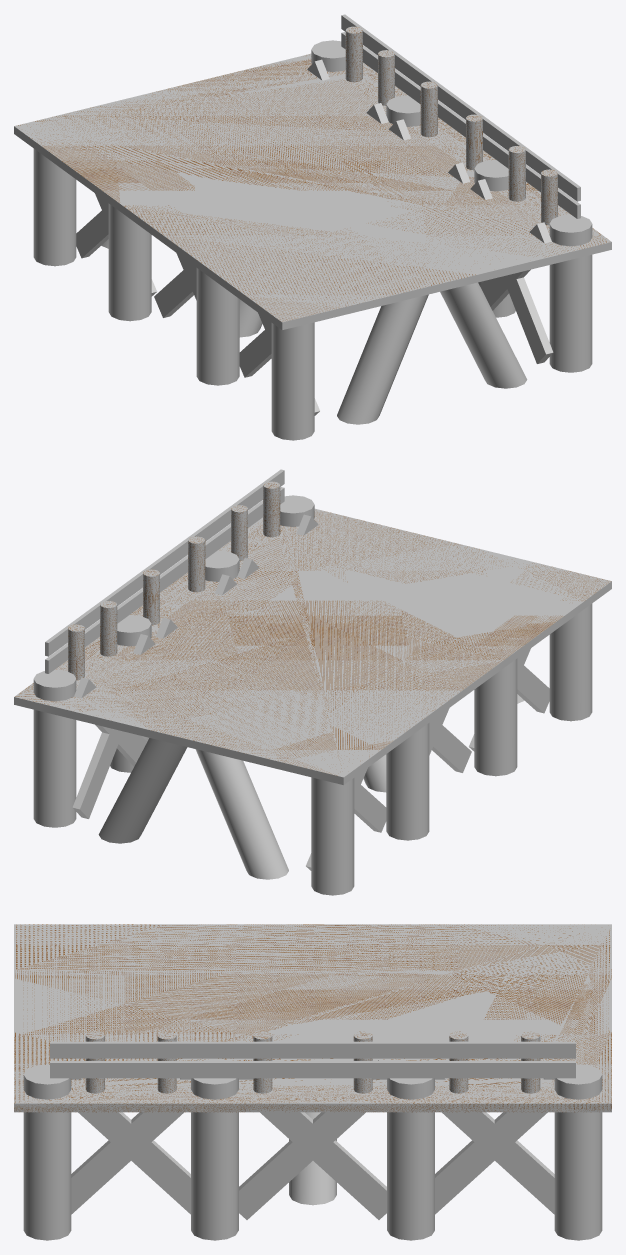
The model's file is Wood platform 1.fbx.
3 views of the same model, one above another, from view 1: azimuth 30°, elevation 25°; view 2: azimuth 150°, elevation 25°; view 3: azimuth 270°, elevation 25° (orthographic). The views are drawn at different scales.
Parts seen in each view (by area): view 1: instance_0.006, instance_0.004, instance_0.011, instance_0.015, instance_0.005, instance_0.009, instance_0.002, instance_0.010, instance_0.012, instance_6, instance_2, instance_7 (+13 smaller); view 2: instance_0.006, instance_0.003, instance_0, instance_0.015, instance_0.002, instance_0.010, instance_0.005, instance_0.009, instance_0.001, instance_6, instance_3, instance_7 (+13 smaller); view 3: instance_0.006, instance_7, instance_6, instance_8, instance_0.004, instance_0.003, instance_0.008, instance_0.007, instance_3, instance_2, instance_0.013, instance_0.023 (+5 smaller).
Part boxes in pixels (box(x1,y1,x2,y2)): instance_0.006: box(14, 53, 611, 322); instance_0.004: box(549, 214, 592, 372); instance_0.011: box(337, 294, 428, 424); instance_0.015: box(14, 126, 611, 330); instance_0.005: box(271, 322, 314, 440); instance_0.009: box(108, 203, 151, 321); instance_0.002: box(33, 148, 76, 266); instance_0.010: box(196, 268, 239, 385); instance_0.012: box(440, 282, 527, 388); instance_6: box(341, 14, 580, 201); instance_2: box(470, 179, 553, 363); instance_7: box(341, 32, 580, 218); instance_0.006: box(14, 508, 611, 777); instance_0.003: box(33, 669, 76, 827); instance_0: box(195, 749, 288, 879); instance_0.015: box(14, 581, 611, 785); instance_0.002: box(311, 777, 354, 895); instance_0.010: box(474, 658, 517, 776); instance_0.005: box(549, 603, 592, 721); instance_0.009: box(386, 723, 429, 840); instance_0.001: box(98, 738, 187, 843); instance_6: box(45, 469, 284, 656); instance_3: box(72, 634, 155, 818); instance_7: box(45, 487, 284, 673); instance_0.006: box(14, 924, 611, 1112); instance_7: box(50, 1061, 575, 1078); instance_6: box(50, 1041, 575, 1058); instance_8: box(239, 1060, 386, 1219); instance_0.004: box(23, 1064, 71, 1240); instance_0.003: box(554, 1064, 602, 1240); instance_0.008: box(191, 1078, 238, 1240); instance_0.007: box(387, 1078, 434, 1240); instance_3: box(428, 1060, 561, 1214); instance_2: box(64, 1060, 197, 1214); instance_0.013: box(289, 1112, 336, 1205); instance_0.023: box(85, 1031, 104, 1093).
Size of the model in its own units: 710 by 360 by 1000.
